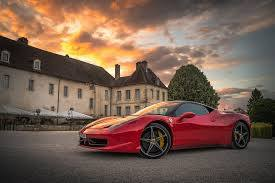car: (78, 101, 251, 158)
